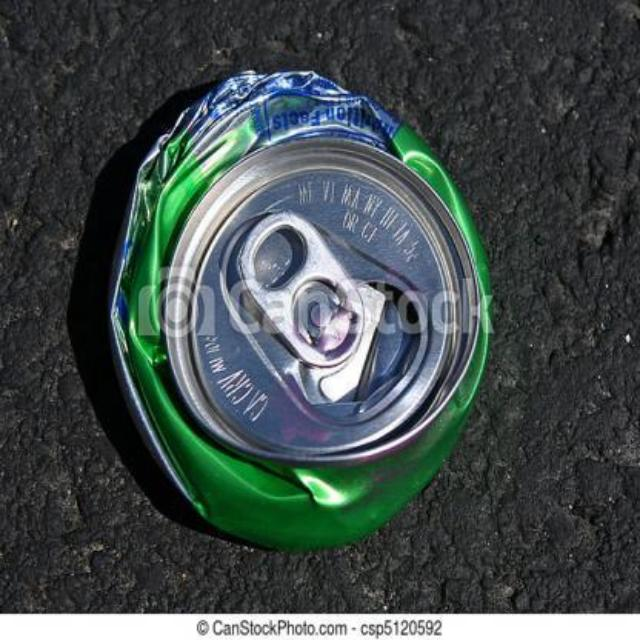metal: (108, 69, 488, 545)
